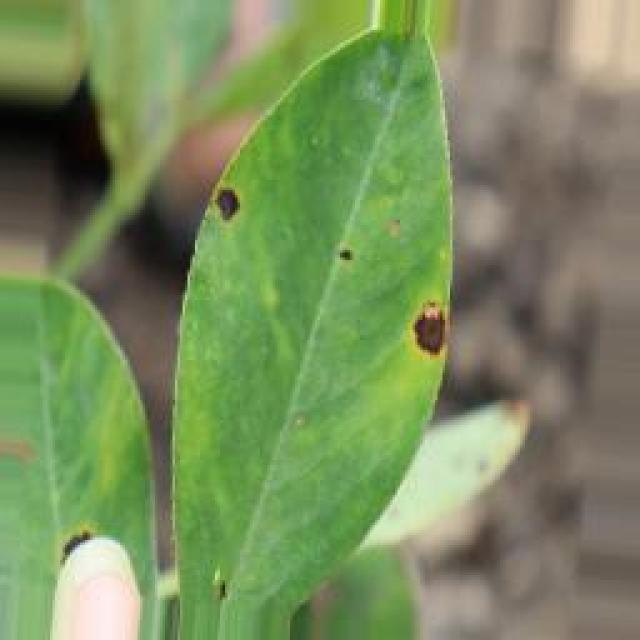Yellowish: (387, 265, 486, 382), (206, 154, 285, 265), (316, 212, 380, 283)
